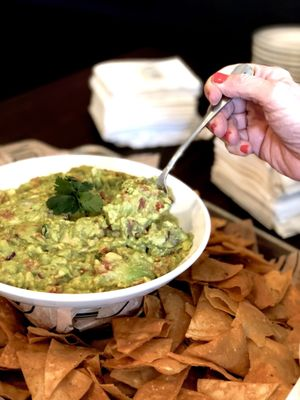sushi: (0, 166, 211, 328)
